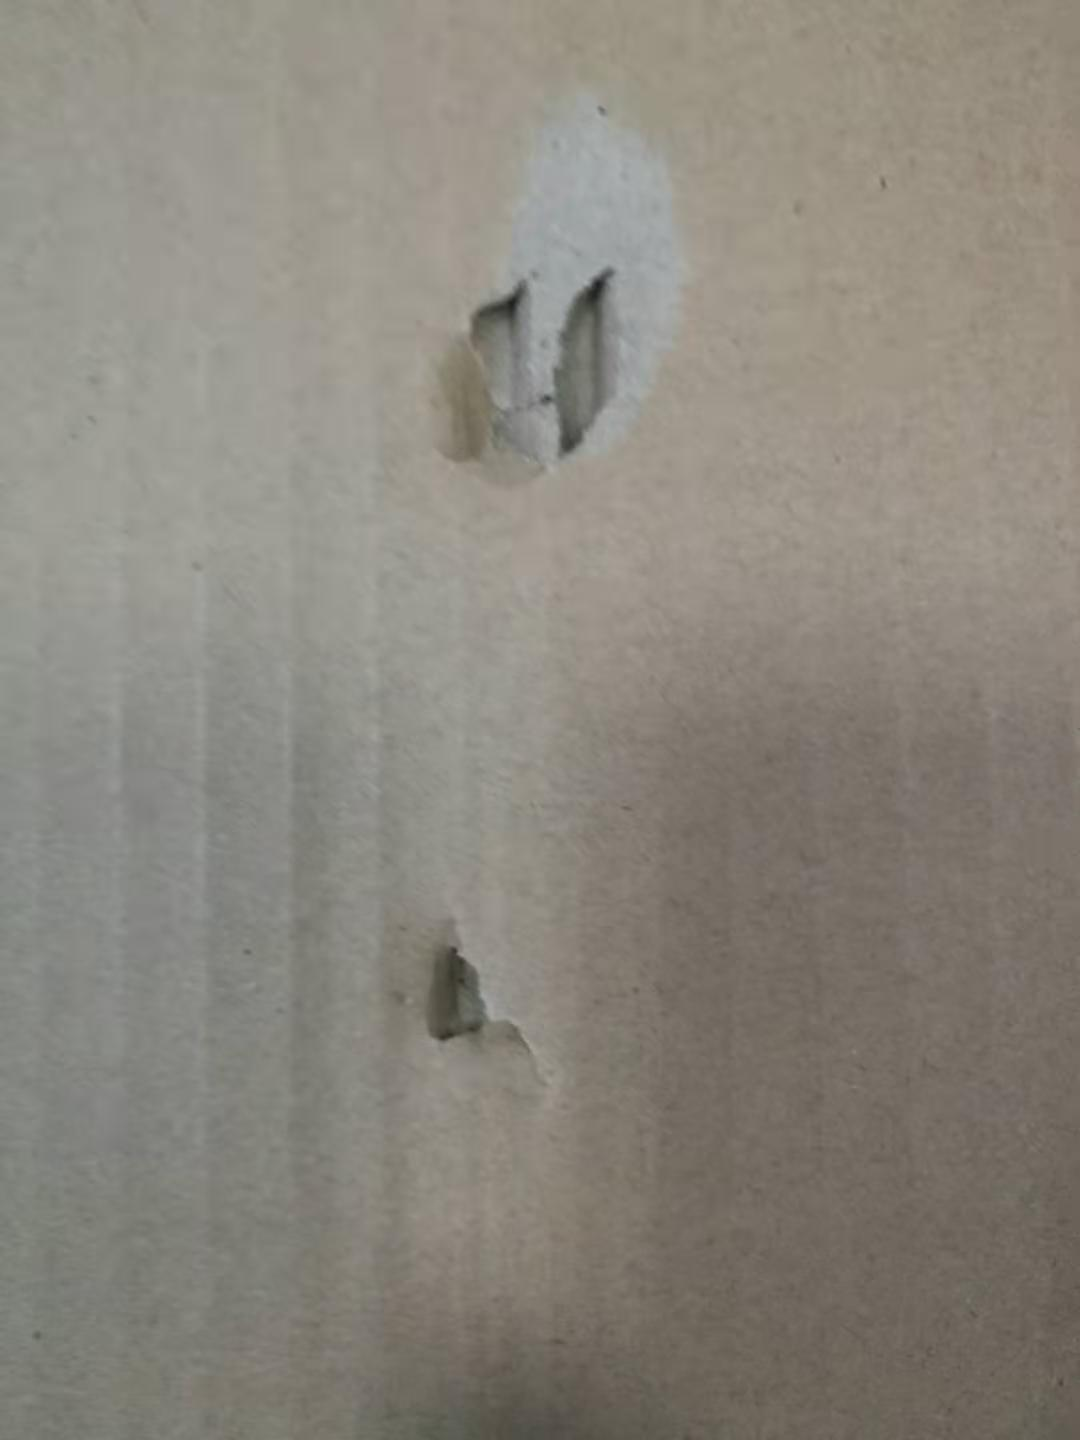defect: (386, 46, 749, 530), (385, 886, 589, 1168)
